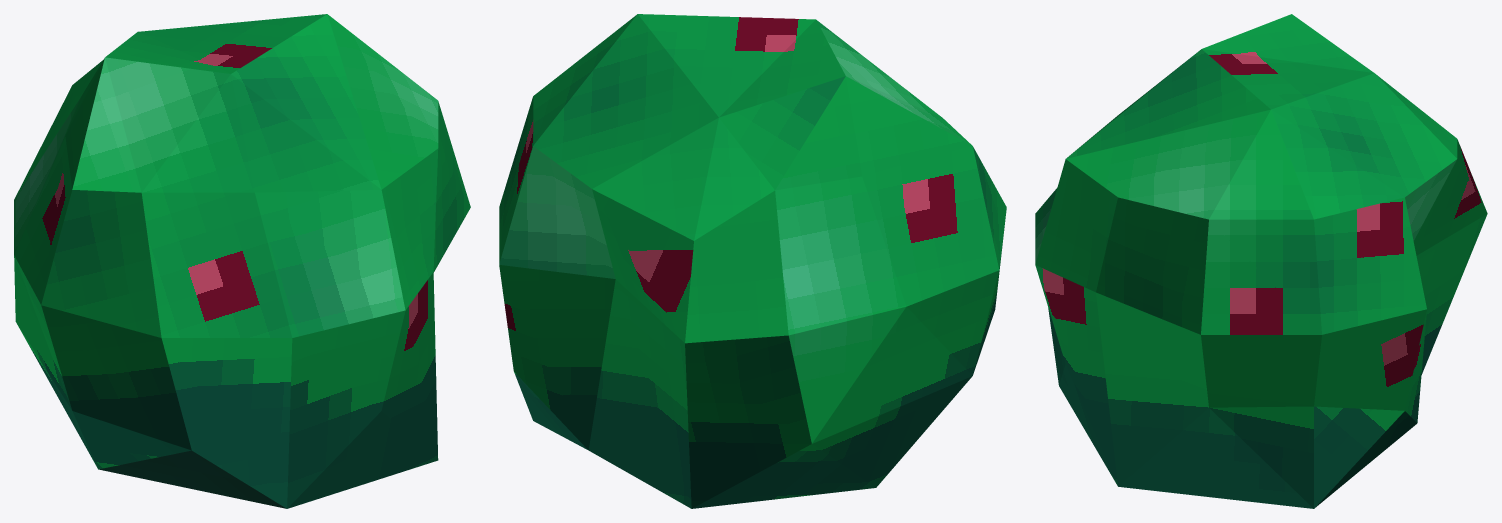
Rendered from BigBush.fbx.
The picture shows the model from 3 angles, left to right: view 1: azimuth 30°, elevation 25°; view 2: azimuth 150°, elevation 25°; view 3: azimuth 270°, elevation 25°; orthographic projection. The views are drawn at different scales.
Visible parts, largest first — view 1: Big; view 2: Big; view 3: Big.
Part boxes in pixels (left/top/right/bottom): Big: left=14, top=14, right=470, bottom=508; Big: left=499, top=14, right=1006, bottom=508; Big: left=1035, top=14, right=1487, bottom=508.
Size of the model in its own units: 106 by 96.01 by 106.
1 material, 1 textured.
